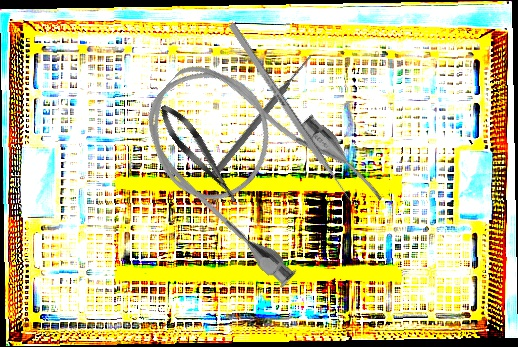Cannula: (117, 29, 393, 298)
Micro Scissor: (153, 98, 245, 210)
Pusher: (227, 22, 361, 214), (209, 52, 315, 180)
